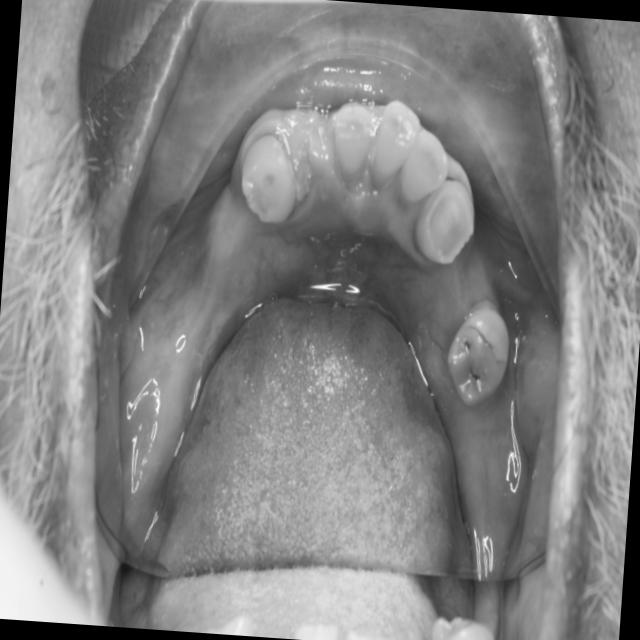tooth: (431, 292, 519, 414), (230, 115, 305, 236), (407, 170, 481, 282), (389, 111, 456, 221), (320, 83, 385, 190), (369, 85, 426, 199)
